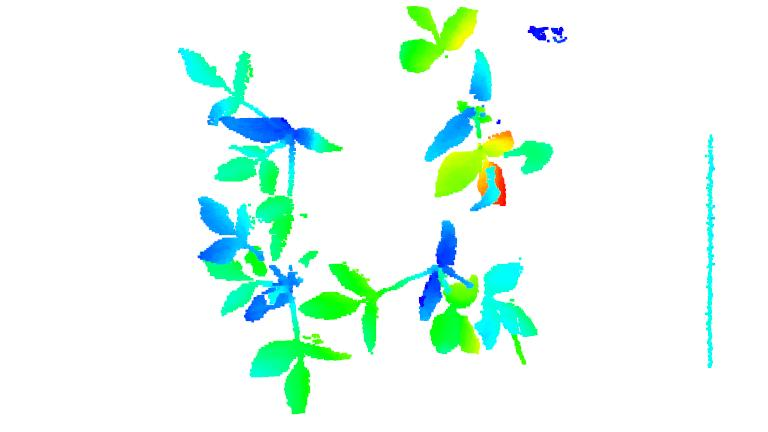mungbean: (174, 43, 348, 261), (192, 196, 355, 416), (302, 219, 542, 367), (394, 2, 557, 210)
